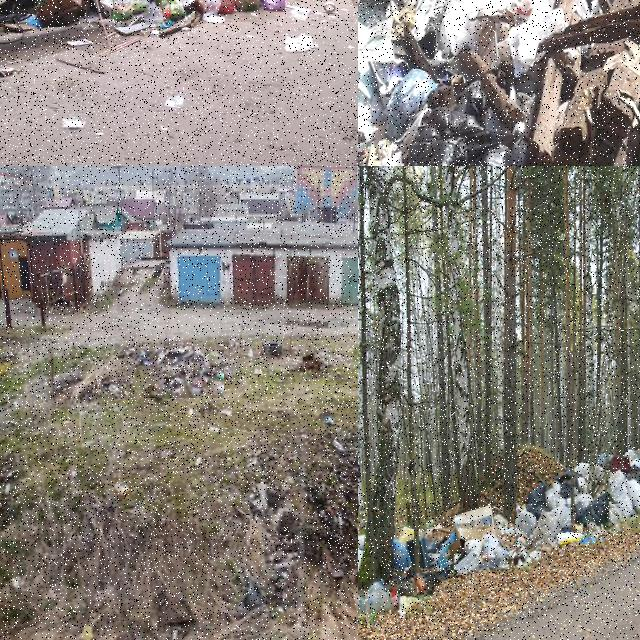lixeira: (358, 0, 639, 165), (523, 473, 639, 536), (358, 528, 440, 616), (441, 510, 543, 571), (251, 479, 300, 605), (136, 346, 226, 399), (35, 0, 193, 29), (196, 0, 288, 24), (598, 452, 639, 504)
